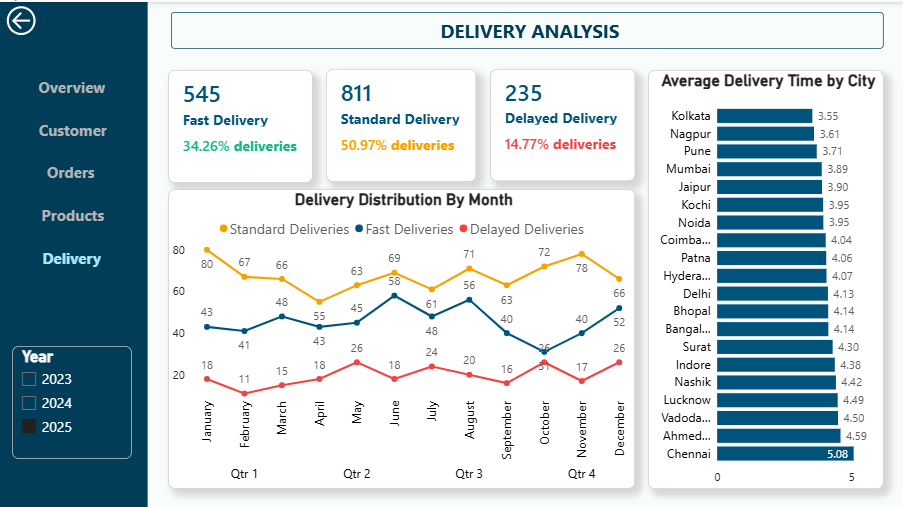

Layout of this report page (visuals, bound fields, positions):
{"tool":"powerbi","page":{"name":"Delivery","canvas":[1280,720],"ordinal":4},"visuals":[{"type":"actionButton","box":[20.2,155.7,169.7,50.4],"z":0},{"type":"actionButton","box":[16.8,217.3,169.7,48.7],"z":1000},{"type":"actionButton","box":[18,337,169.7,50.4],"z":2000},{"type":"actionButton","box":[20.2,277.1,169.7,48.7],"z":3000},{"type":"actionButton","box":[18,95,170.1,49.6],"z":4000},{"type":"textbox","box":[243.8,14.2,1010,52],"z":5000},{"type":"slicer","fields":{"Values":["Calendar.Date.Variation.Date Hierarchy.Year"]},"box":[18.5,487.1,169.7,159.6],"z":6000},{"type":"cardVisual","title":"Revenue","fields":{"Data":["measures_table.Fast Deliveries"]},"box":[239.5,96.4,205,160.2],"z":7000},{"type":"cardVisual","title":"Revenue","fields":{"Data":["measures_table.Delayed Deliveries"]},"box":[695.9,95,205.5,158.7],"z":8000},{"type":"cardVisual","title":"Revenue","fields":{"Data":["measures_table.Standard Deliveries"]},"box":[463.9,95,212.6,160.2],"z":9000},{"type":"lineChart","title":"Delivery Distribution By Month","fields":{"Y":["measures_table.Standard Deliveries","measures_table.Fast Deliveries","measures_table.Delayed Deliveries"],"Category":["Calendar.Date.Variation.Date Hierarchy.Quarter","Calendar.Date.Variation.Date Hierarchy.Month"]},"box":[240.2,265.4,661.8,425],"z":10000},{"type":"clusteredBarChart","title":"Average Delivery Time by City","fields":{"Category":["customers.city"],"Y":["Avg(delivery.delivery_time)"]},"box":[919.8,96.4,334.5,593.9],"z":11000},{"type":"actionButton","box":[0,0,63.4,52.8],"z":12000}]}

Visuals, with their boxes in screenshot pixels (x1, y1, x2, y2), scaled from the page's 1280x720 canvas onto the 903x507 screenshot:
actionButton: 14, 110, 134, 145
actionButton: 12, 153, 132, 187
actionButton: 13, 237, 132, 273
actionButton: 14, 195, 134, 229
actionButton: 13, 67, 133, 102
textbox: 172, 10, 885, 47
slicer - Calendar.Date.Variation.Date Hierarchy.Year: 13, 343, 133, 455
"Revenue" cardVisual: 169, 68, 314, 181
"Revenue" cardVisual: 491, 67, 636, 179
"Revenue" cardVisual: 327, 67, 477, 180
"Delivery Distribution By Month" lineChart: 169, 187, 636, 486
"Average Delivery Time by City" clusteredBarChart: 649, 68, 885, 486
actionButton: 0, 0, 45, 37
